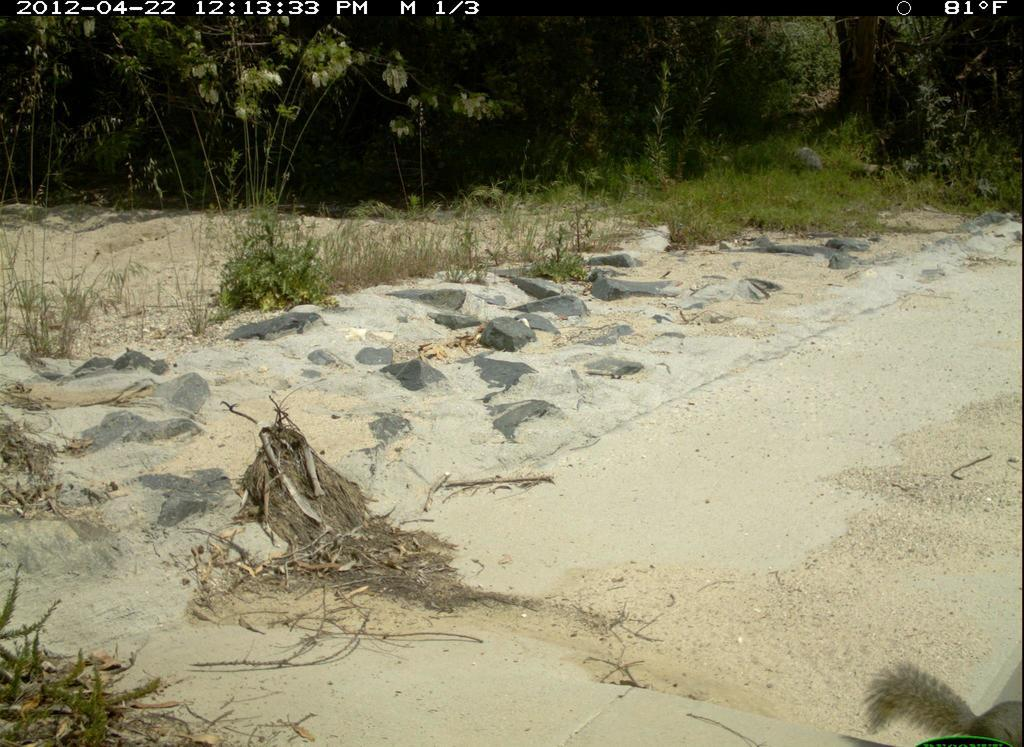squirrel: (861, 657, 1023, 745)
